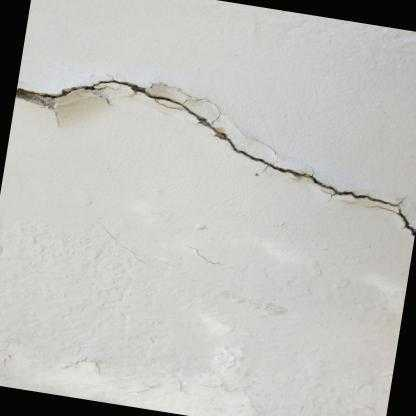crack: (15, 77, 416, 237)
